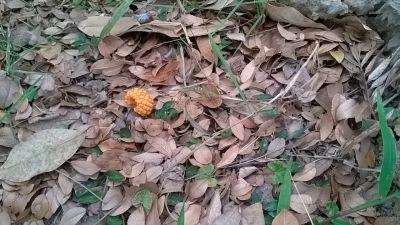eggs: (126, 88, 155, 116)
